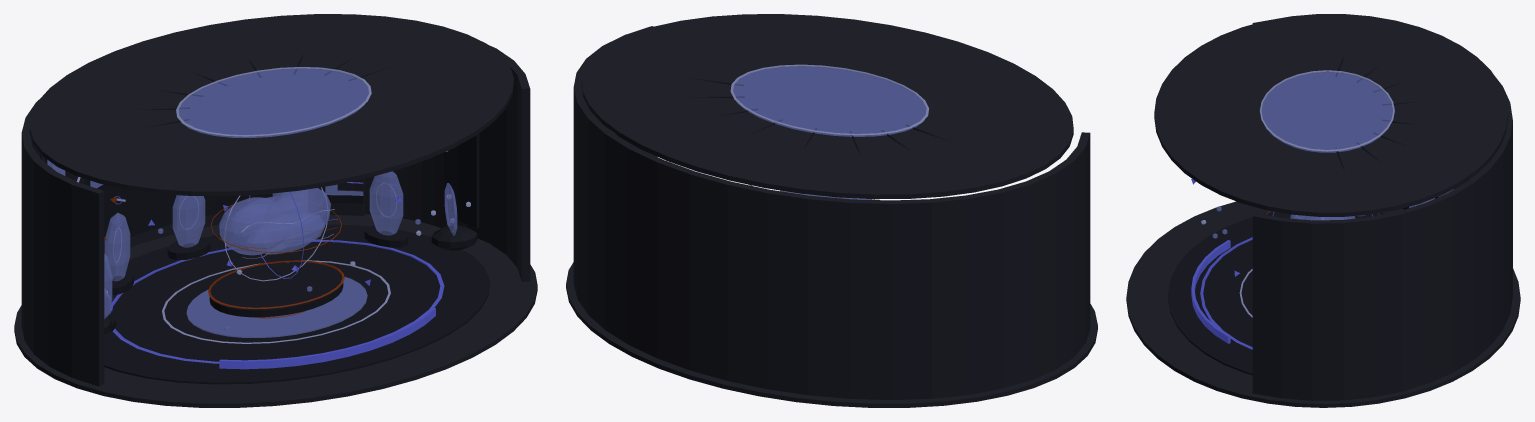
Rendered from recovery-int-draft-s39.glb.
3 views of the same model, side by side, from view 1: azimuth 30°, elevation 25°; view 2: azimuth 150°, elevation 25°; view 3: azimuth 270°, elevation 25° (orthographic). The views are drawn at different scales.
Visible parts, largest first — view 1: neural_recovery_room_shell_base_joined, neural_recovery_room_shell_detail_joined, neural_recovery_room_shell_glass_joined, sleep_brain_hologram_glass_joined, sleep_brain_hologram_dark_floating_plinth, recovery_pod_glass_joined, neural_recovery_room_shell_accent_joined, emotional_reset_nook_base_joined, neural_recovery_room_shell_emissive_joined, recovery_pod_detail_joined, sleep_brain_hologram_energy_joined, emotional_reset_nook_detail_joined (+2 smaller); view 2: neural_recovery_room_shell_base_joined, neural_recovery_room_shell_glass_joined, neural_recovery_room_shell_emissive_joined, neural_recovery_room_shell_detail_joined; view 3: neural_recovery_room_shell_base_joined, neural_recovery_room_shell_detail_joined, neural_recovery_room_shell_glass_joined, neural_recovery_room_shell_accent_joined, neural_recovery_room_shell_emissive_joined.
Boxes of the visible parts, bbox=[...] form: neural_recovery_room_shell_base_joined: bbox=[14, 14, 537, 407]; neural_recovery_room_shell_detail_joined: bbox=[40, 54, 489, 384]; neural_recovery_room_shell_glass_joined: bbox=[47, 68, 447, 337]; sleep_brain_hologram_glass_joined: bbox=[219, 188, 330, 255]; sleep_brain_hologram_dark_floating_plinth: bbox=[209, 263, 343, 317]; recovery_pod_glass_joined: bbox=[104, 171, 403, 303]; neural_recovery_room_shell_accent_joined: bbox=[111, 182, 444, 369]; emotional_reset_nook_base_joined: bbox=[81, 152, 444, 229]; neural_recovery_room_shell_emissive_joined: bbox=[77, 67, 390, 343]; recovery_pod_detail_joined: bbox=[107, 226, 408, 332]; sleep_brain_hologram_energy_joined: bbox=[208, 204, 344, 308]; emotional_reset_nook_detail_joined: bbox=[104, 225, 477, 334]; neural_recovery_room_shell_base_joined: bbox=[566, 14, 1097, 407]; neural_recovery_room_shell_glass_joined: bbox=[612, 66, 926, 136]; neural_recovery_room_shell_emissive_joined: bbox=[730, 64, 928, 135]; neural_recovery_room_shell_detail_joined: bbox=[688, 77, 951, 153]; neural_recovery_room_shell_base_joined: bbox=[1126, 14, 1520, 407]; neural_recovery_room_shell_detail_joined: bbox=[1167, 55, 1468, 375]; neural_recovery_room_shell_glass_joined: bbox=[1261, 72, 1453, 196]; neural_recovery_room_shell_accent_joined: bbox=[1191, 237, 1252, 349]; neural_recovery_room_shell_emissive_joined: bbox=[1239, 70, 1394, 317].
Size of the model in its own units: 13.1 by 5.44 by 10.2.
